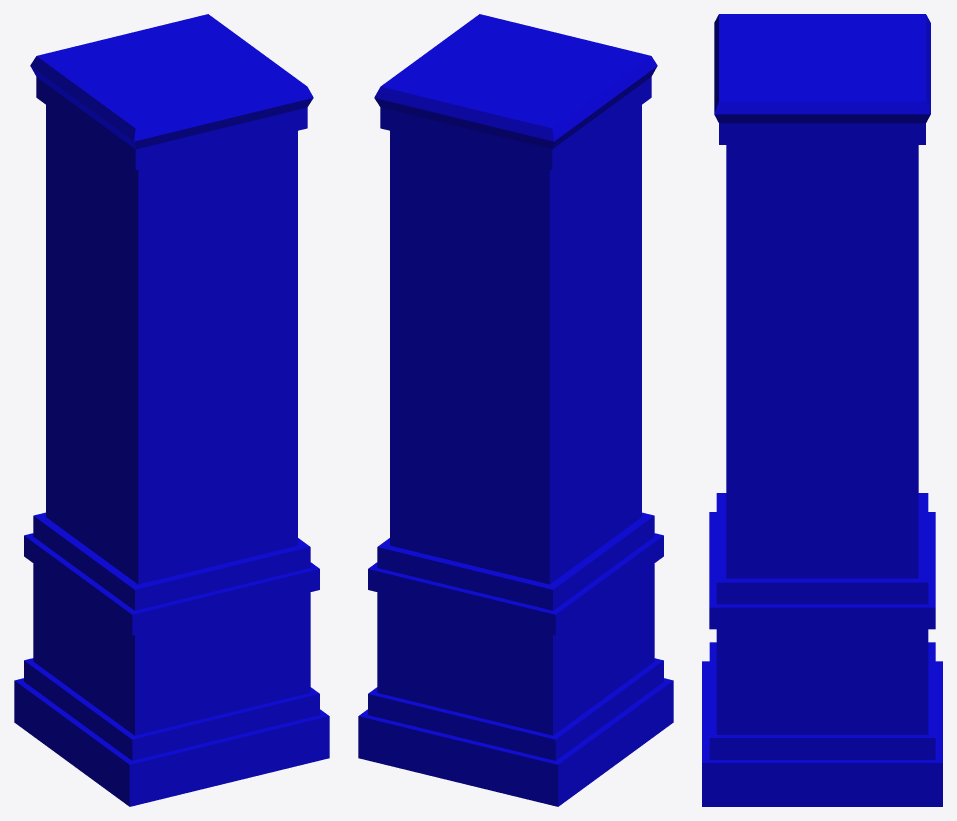
The model's file is SM_town_BD_1Fpillar.fbx.
3 views of the same model, side by side, from view 1: azimuth 30°, elevation 25°; view 2: azimuth 150°, elevation 25°; view 3: azimuth 270°, elevation 25° (orthographic). The views are drawn at different scales.
Parts seen in each view (by area): view 1: 1F_pillar_bot_low.004; view 2: 1F_pillar_bot_low.004; view 3: 1F_pillar_bot_low.004.
Boxes of the visible parts, left/top/right/bottom form: 1F_pillar_bot_low.004: left=14, top=14, right=329, bottom=806; 1F_pillar_bot_low.004: left=358, top=14, right=673, bottom=806; 1F_pillar_bot_low.004: left=702, top=14, right=942, bottom=806.
Size of the model in its own units: 100 by 320 by 100.
